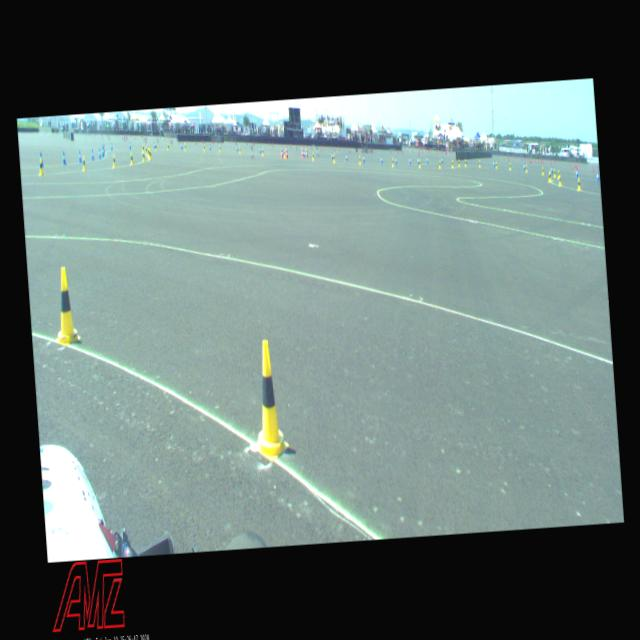blue_cone: (62, 150, 66, 166), (78, 148, 82, 164), (39, 151, 43, 167), (595, 170, 599, 182), (574, 168, 578, 178), (344, 152, 348, 162), (128, 140, 132, 150), (258, 144, 262, 154), (302, 148, 306, 158), (91, 148, 94, 161), (98, 147, 101, 159), (101, 146, 104, 158), (102, 142, 105, 153), (408, 156, 411, 166), (362, 153, 365, 163), (330, 150, 333, 160), (394, 155, 397, 165), (208, 142, 211, 151), (425, 155, 428, 164), (416, 156, 419, 165), (492, 159, 495, 168), (440, 155, 443, 164), (110, 142, 113, 150), (522, 162, 525, 170), (380, 154, 382, 164), (154, 140, 156, 150), (550, 164, 552, 173), (180, 141, 182, 149), (236, 144, 238, 152)
large_orange_cone: (280, 144, 284, 158), (300, 144, 304, 158), (284, 144, 288, 158), (304, 144, 308, 158)
yellow_cone: (246, 337, 290, 464), (50, 264, 82, 348), (37, 158, 44, 176), (81, 155, 86, 171), (129, 151, 134, 166), (112, 153, 116, 169), (576, 177, 580, 191), (141, 148, 145, 162), (558, 174, 562, 186), (547, 170, 551, 182), (552, 167, 556, 178), (556, 168, 560, 179), (148, 150, 152, 160), (144, 145, 148, 155), (358, 154, 361, 166), (391, 156, 394, 167), (418, 157, 421, 168), (147, 147, 150, 158), (218, 144, 222, 152), (540, 166, 544, 174), (524, 164, 528, 172), (438, 159, 441, 169), (311, 151, 314, 161), (451, 158, 454, 168), (464, 157, 467, 167), (332, 153, 335, 163), (494, 160, 497, 169), (238, 145, 241, 154), (202, 143, 205, 152), (261, 147, 264, 156), (508, 162, 511, 171), (283, 149, 286, 158), (167, 142, 170, 150), (142, 142, 144, 154), (478, 158, 480, 168), (458, 158, 460, 168), (154, 142, 156, 151), (184, 142, 186, 151)
